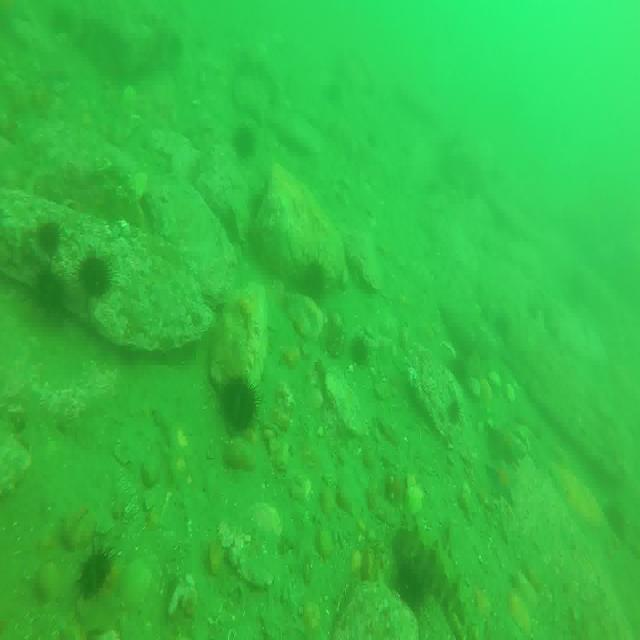echinus: (222, 371, 256, 433), (35, 270, 71, 323), (77, 255, 113, 298), (80, 543, 112, 591), (233, 121, 255, 162), (36, 220, 60, 256), (353, 332, 376, 367), (304, 261, 322, 298)
holothurian: (398, 527, 488, 640)
